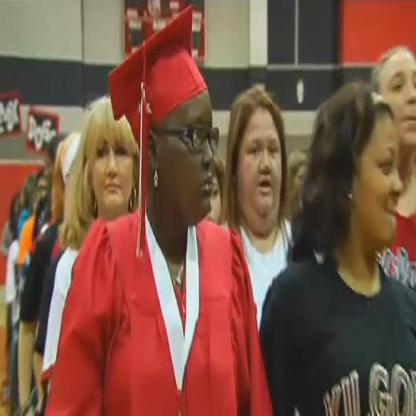face: (172, 101, 219, 218), (365, 127, 406, 236), (240, 115, 285, 211), (384, 59, 416, 144), (95, 143, 133, 206)
